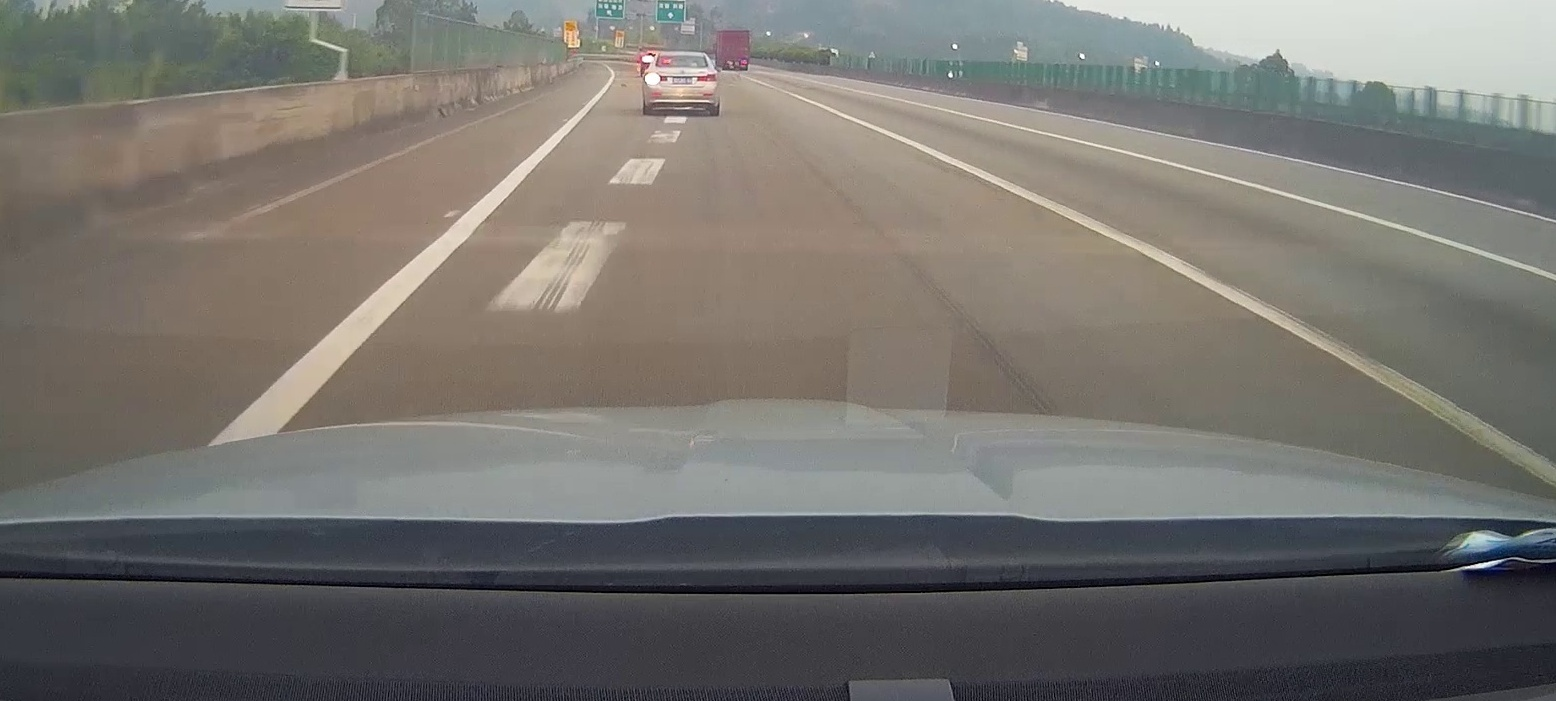L_light: (644, 73, 667, 84)
R_light: (697, 73, 717, 81)
T_light: (674, 63, 688, 66)
day-left: (642, 51, 720, 116)
